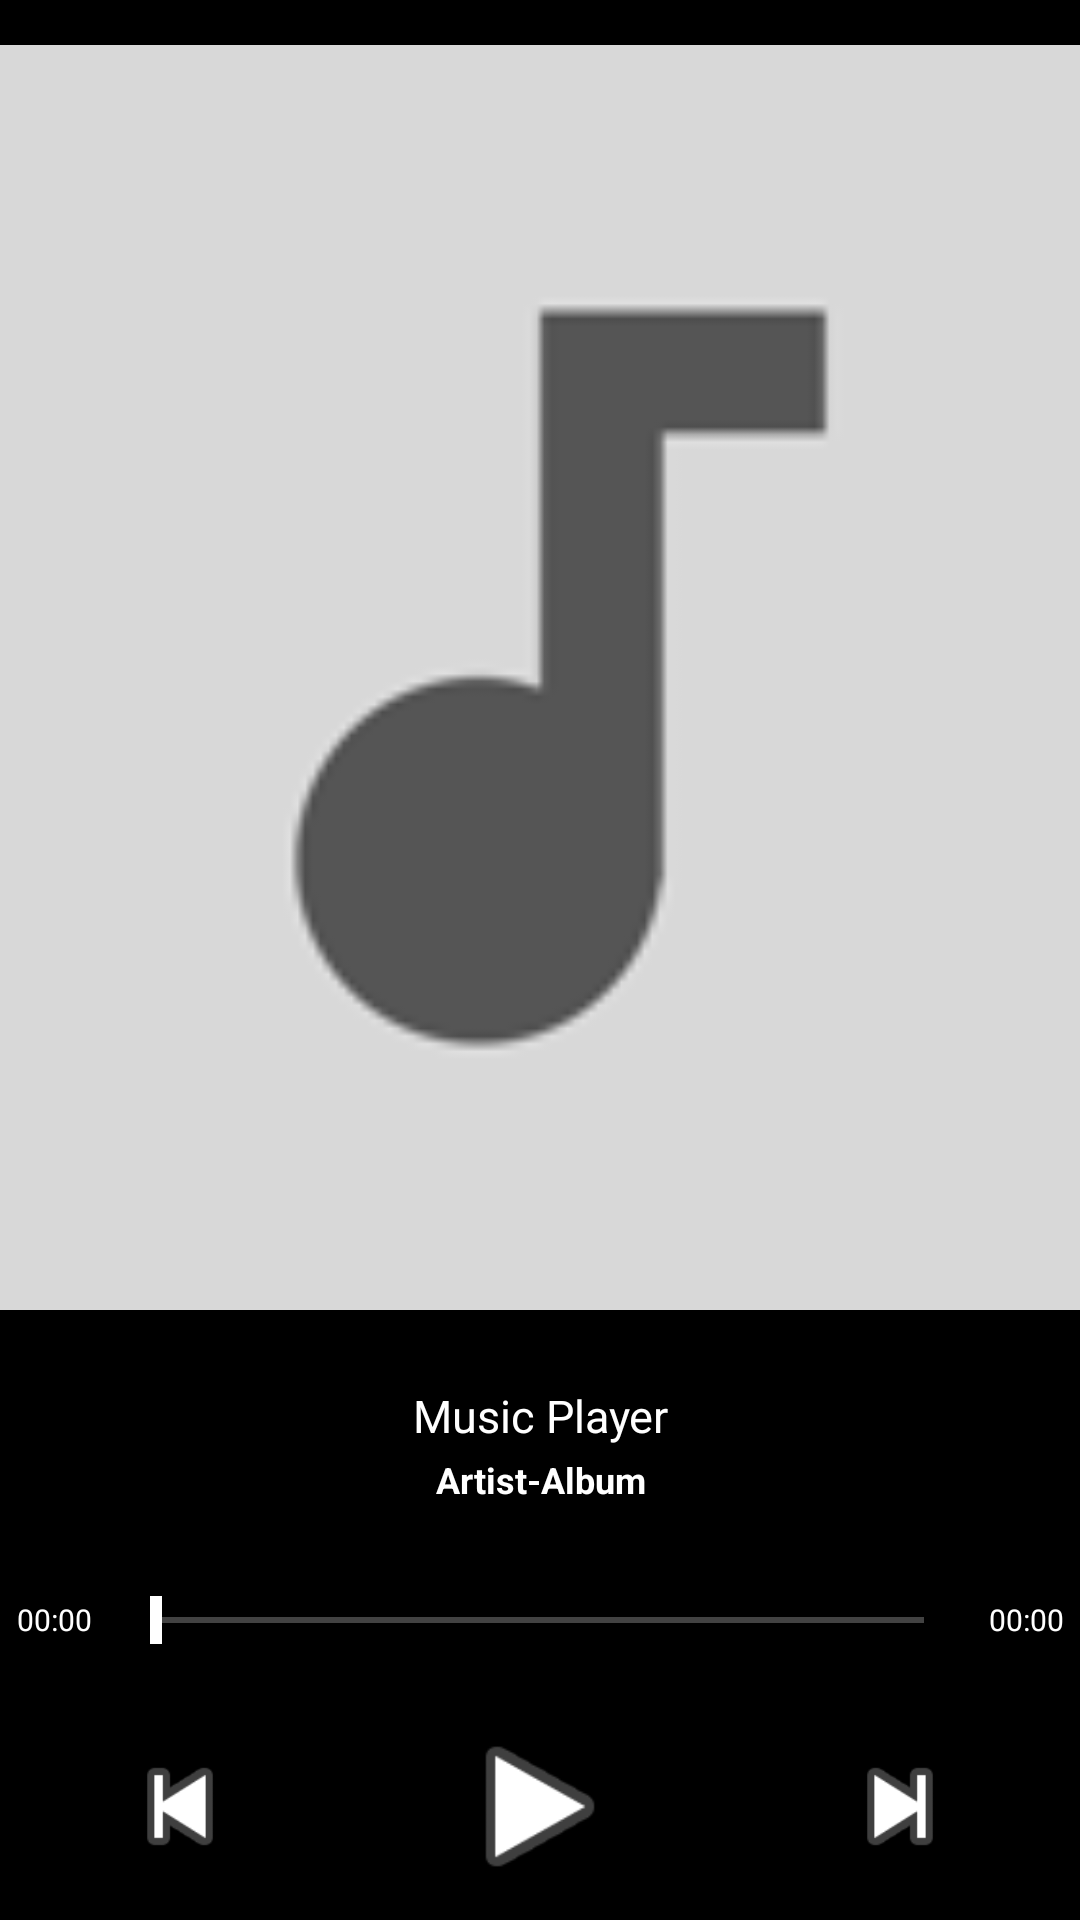

Locate icon controls on the screen. Image size 1080*1920, boxes as (x1, y1, x2, y2).
next: (867, 1768, 933, 1845)
play: (486, 1747, 594, 1866)
previous: (147, 1768, 213, 1845)
